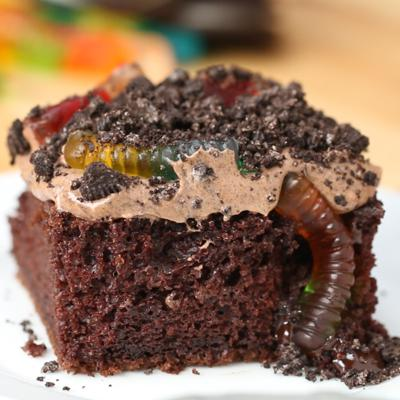cake: (9, 78, 391, 395)
